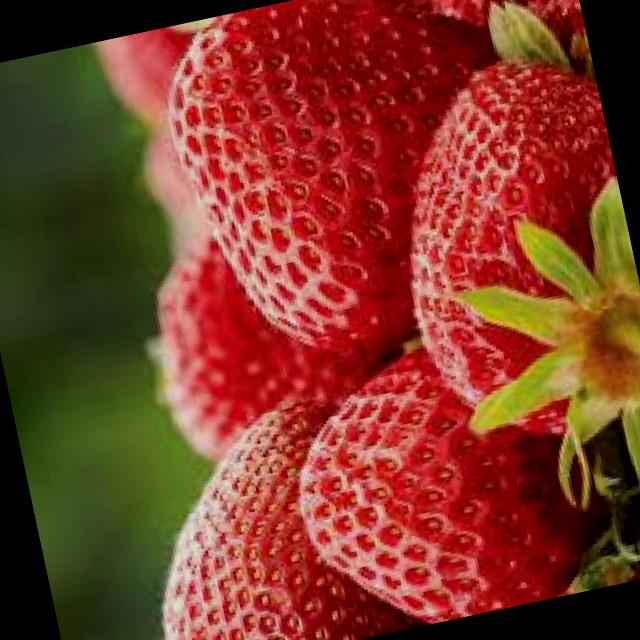tofu: (152, 0, 526, 387), (368, 46, 640, 482), (267, 329, 598, 640)
